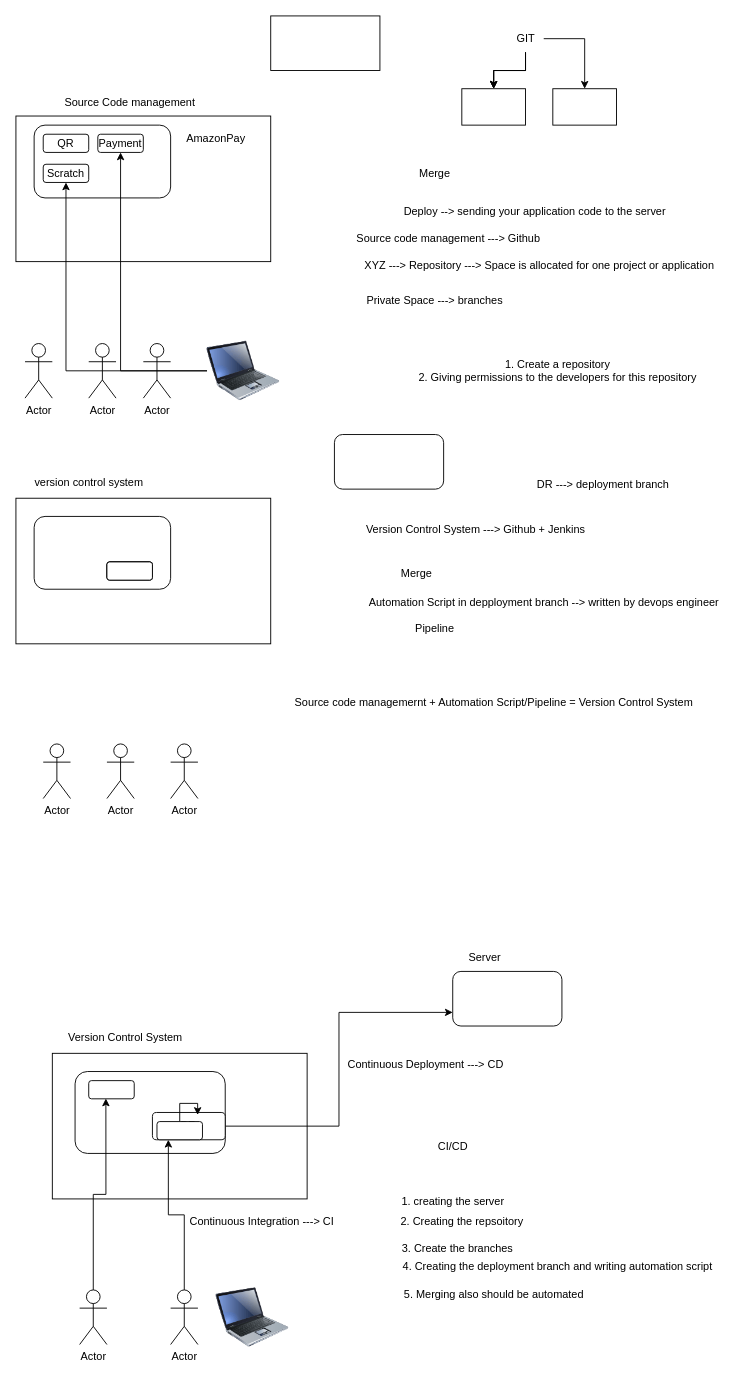
The diagram is 746 pixels wide and 1380 high, and some of its shapes have lost their labels. Each missing label, with the box of its shape:
Github: (461, 88, 526, 125)
Gitlab: (552, 88, 617, 125)
